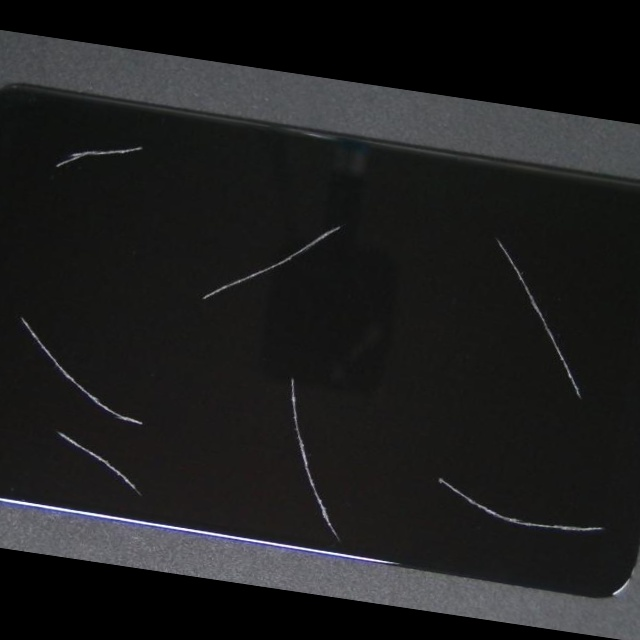scratch: (74, 294, 246, 578)
